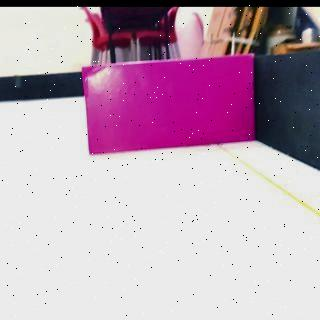xparking: (80, 68, 254, 156)
